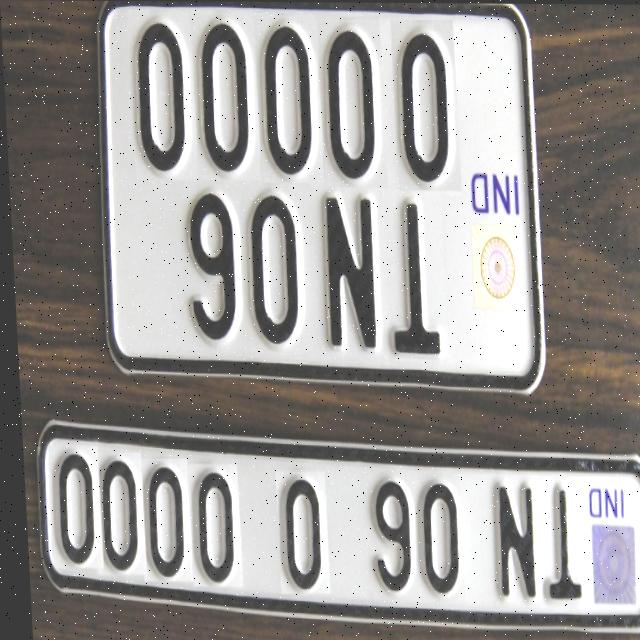plate: (89, 1, 546, 397), (28, 421, 640, 636)
